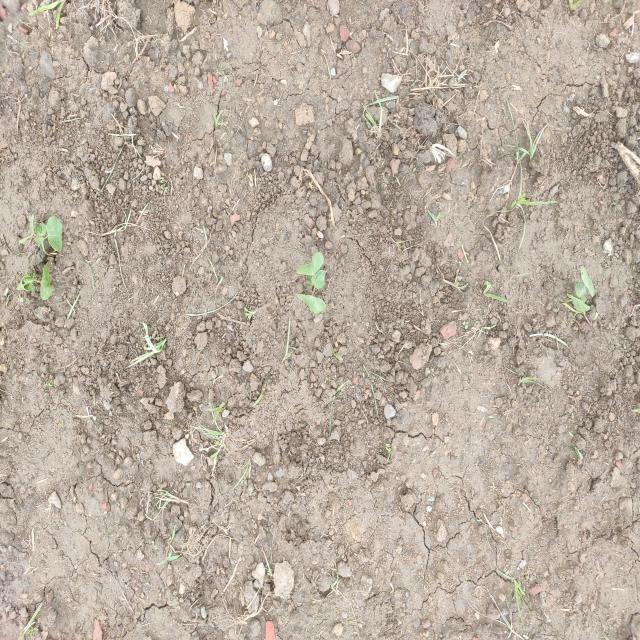seedling: (297, 252, 324, 275), (296, 294, 326, 314), (47, 216, 62, 252), (567, 294, 590, 312), (40, 266, 52, 300), (20, 215, 34, 244), (581, 266, 594, 297), (312, 270, 327, 289), (16, 276, 33, 292), (575, 280, 586, 298), (36, 223, 46, 235), (35, 237, 45, 248)
